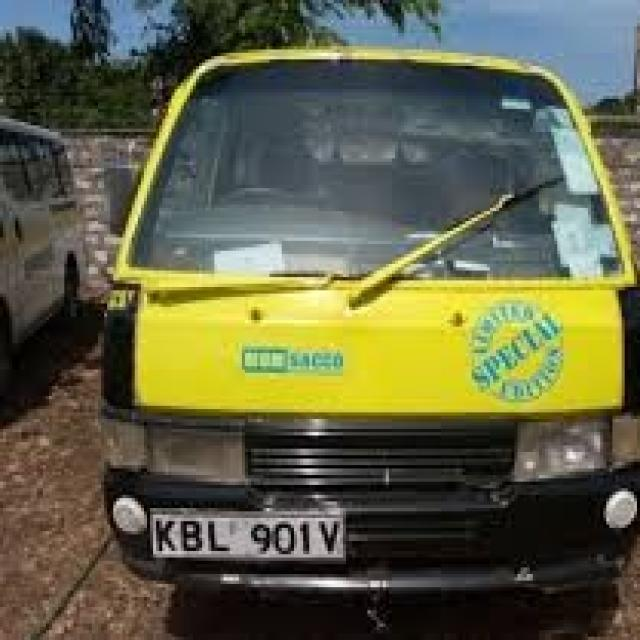matatu: (42, 19, 640, 615)
